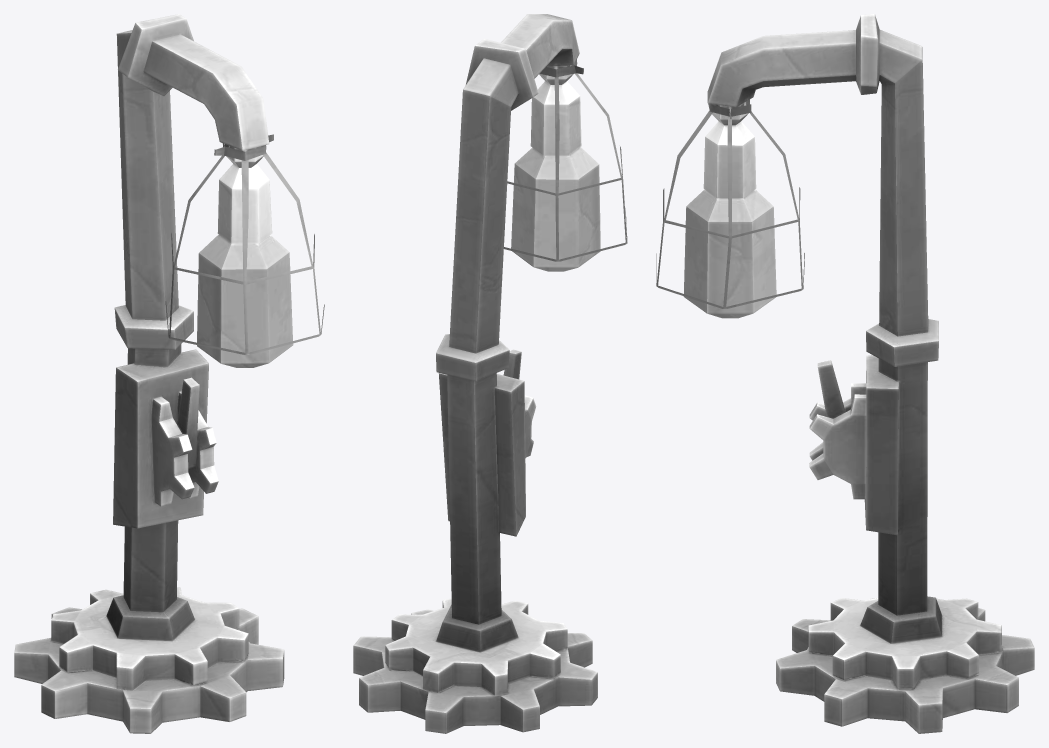
File: obj_lamp02_alt.gltf
3 renders of one model, left to right at view 1: azimuth 30°, elevation 25°; view 2: azimuth 150°, elevation 25°; view 3: azimuth 270°, elevation 25°, orthographic. The views are drawn at different scales.
Visible parts, largest first — view 1: obj_lamp02_alt; view 2: obj_lamp02_alt; view 3: obj_lamp02_alt.
Part boxes in pixels (x1,y1,x2,y2): obj_lamp02_alt: (14,14,324,733); obj_lamp02_alt: (353,14,627,733); obj_lamp02_alt: (656,14,1034,733).
Size of what is drawn, in the model's own units: 0.4032 by 1.12 by 0.5897.
1 material, 1 textured.
